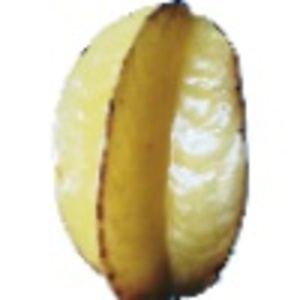carambola: (53, 1, 250, 300)
